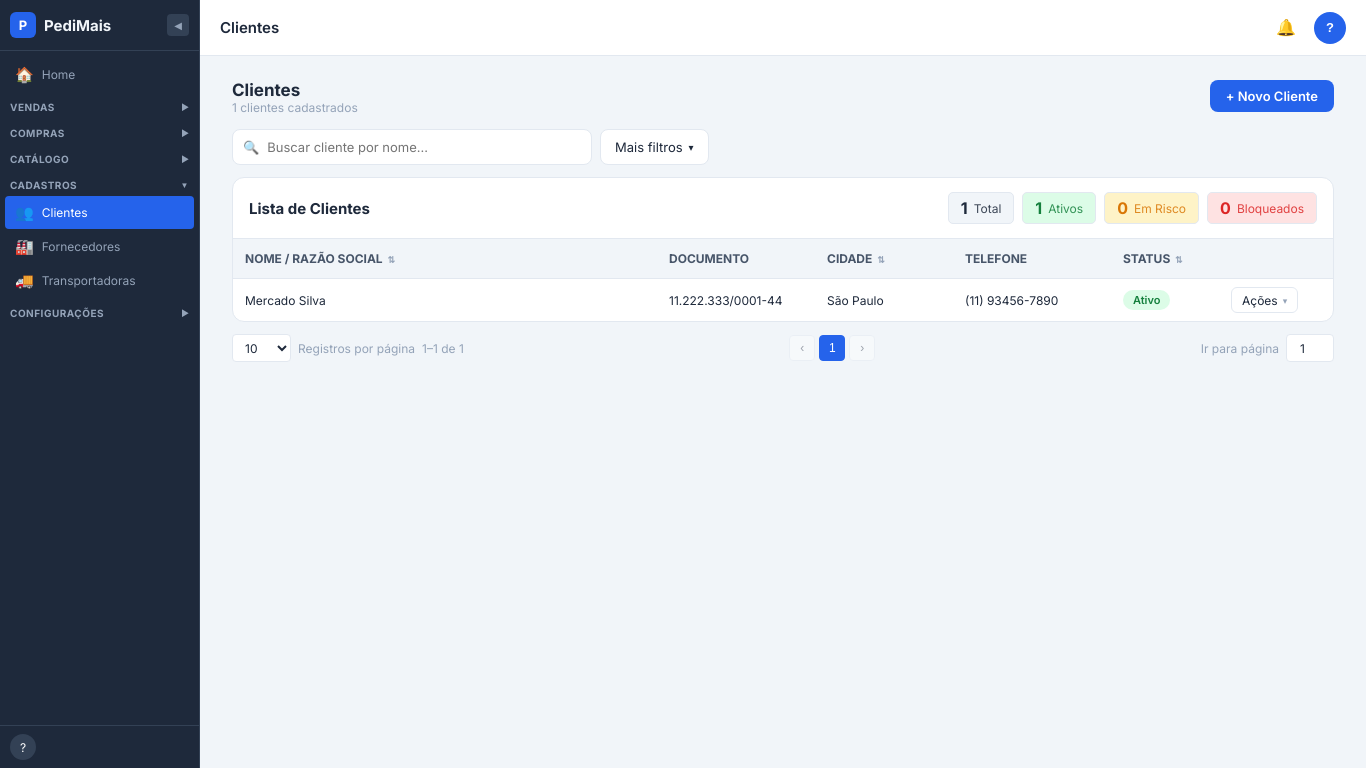
Test: ClientesListView › shows a type+number panel (not a checkbox list) for the Nr. Documento filter
Click the button with test id "filter-bar-more" at (654, 147), box [600,129,709,165]
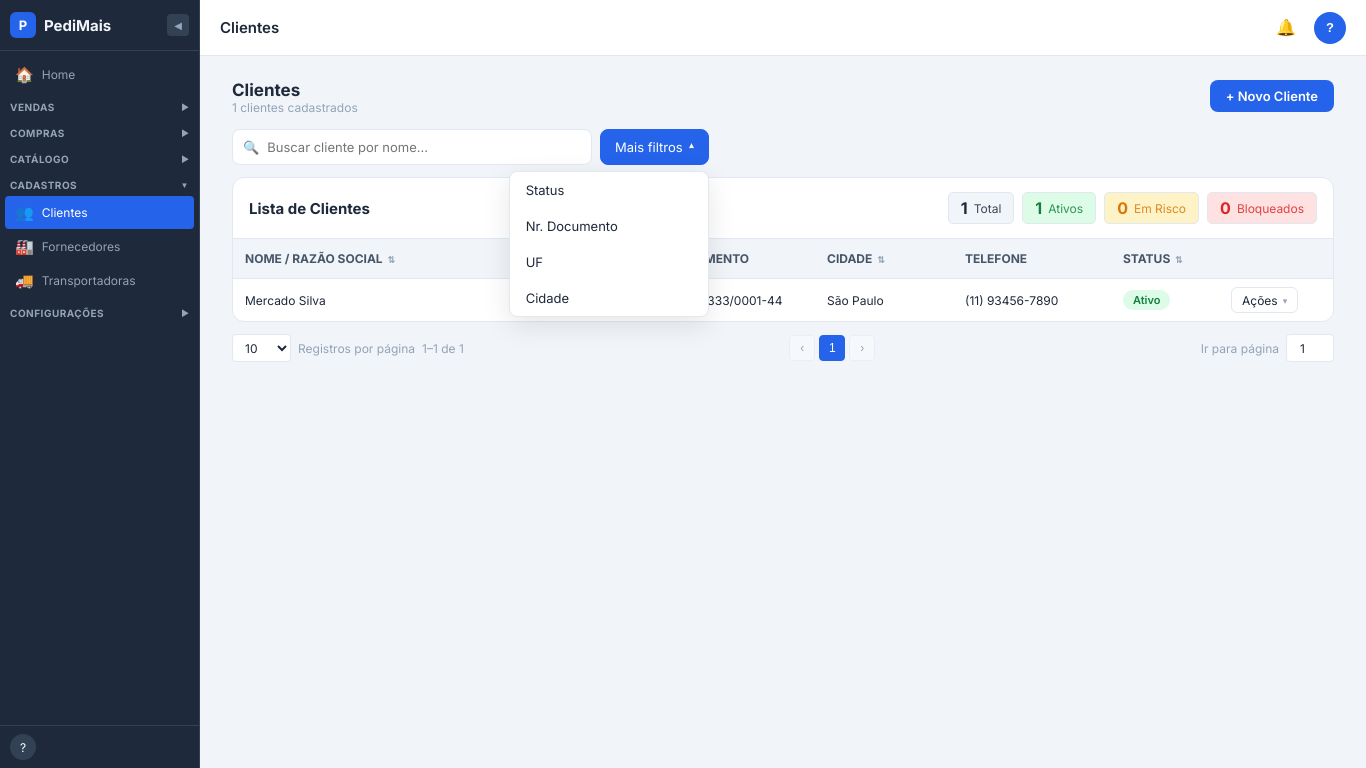
Click the text with test id "filter-cat-Nr. Documento" at (572, 226), box [526,218,618,234]
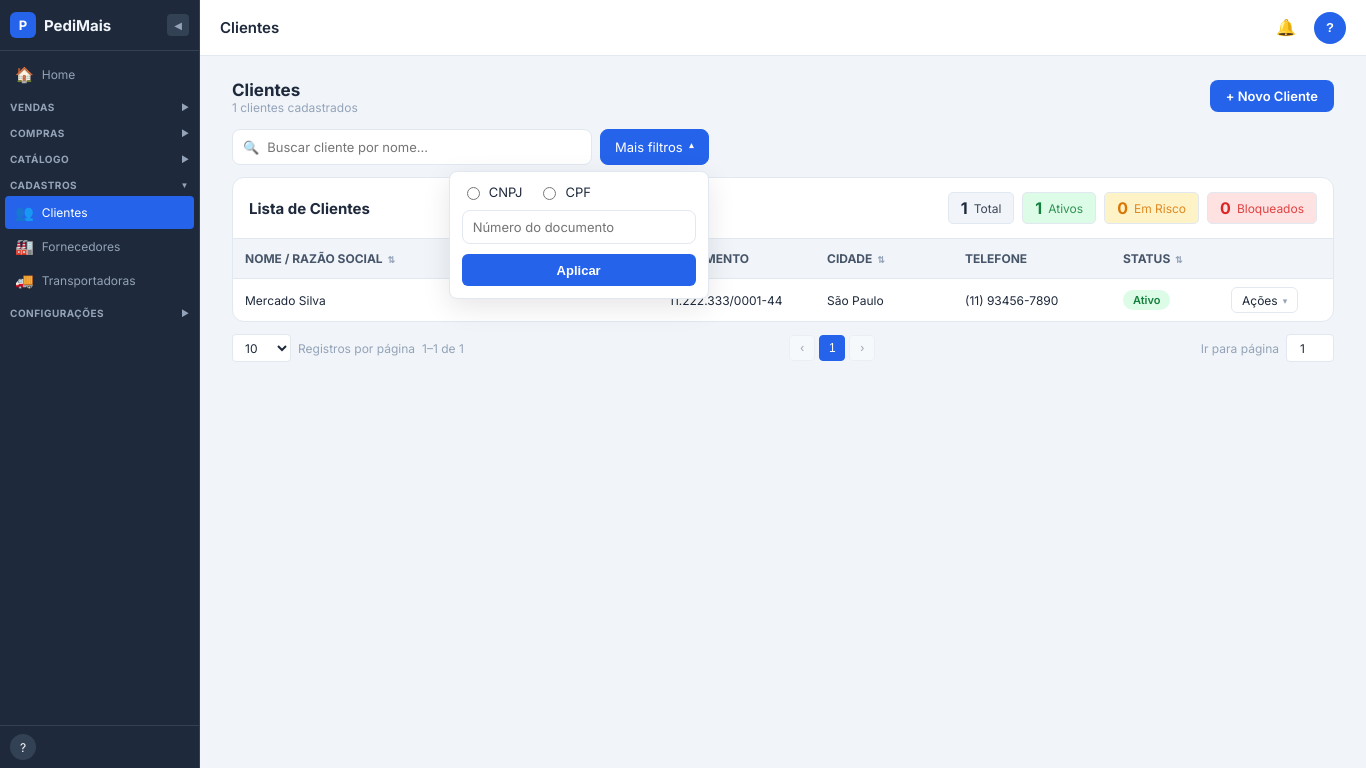
Expected: the radio button with test id "documento-filtro-tipo-cnpj" is shown, [467,187,480,200]
Expected: the field with test id "documento-filtro-numero" is shown, [462,210,696,244]
